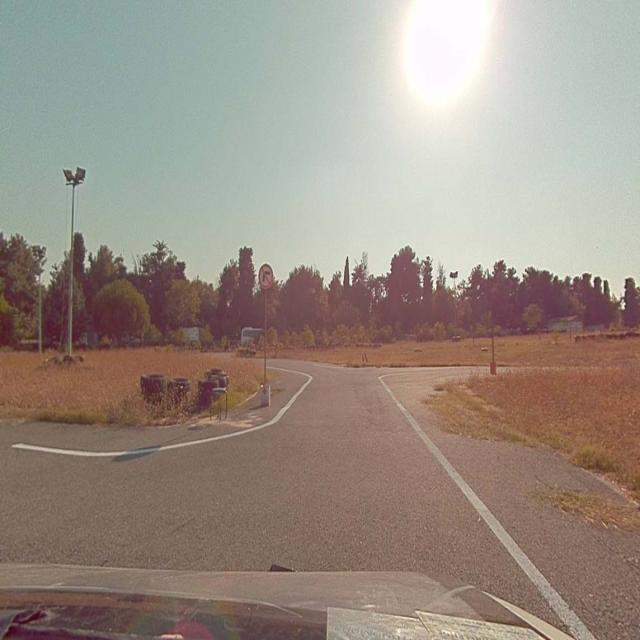sagadonulmez: (259, 264, 274, 288)
